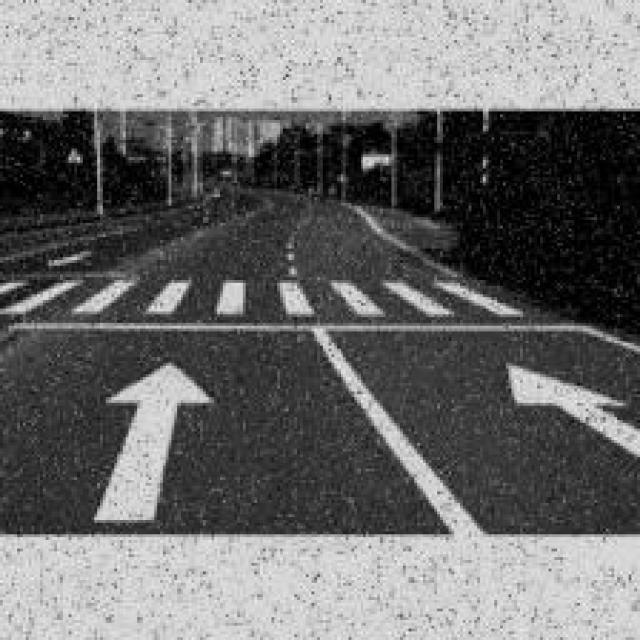crosswalk: (3, 258, 527, 331)
